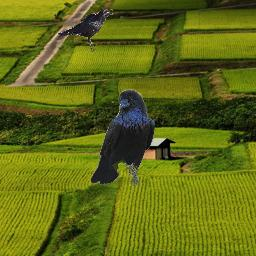Crow: (91, 89, 155, 186), (58, 9, 114, 52)
